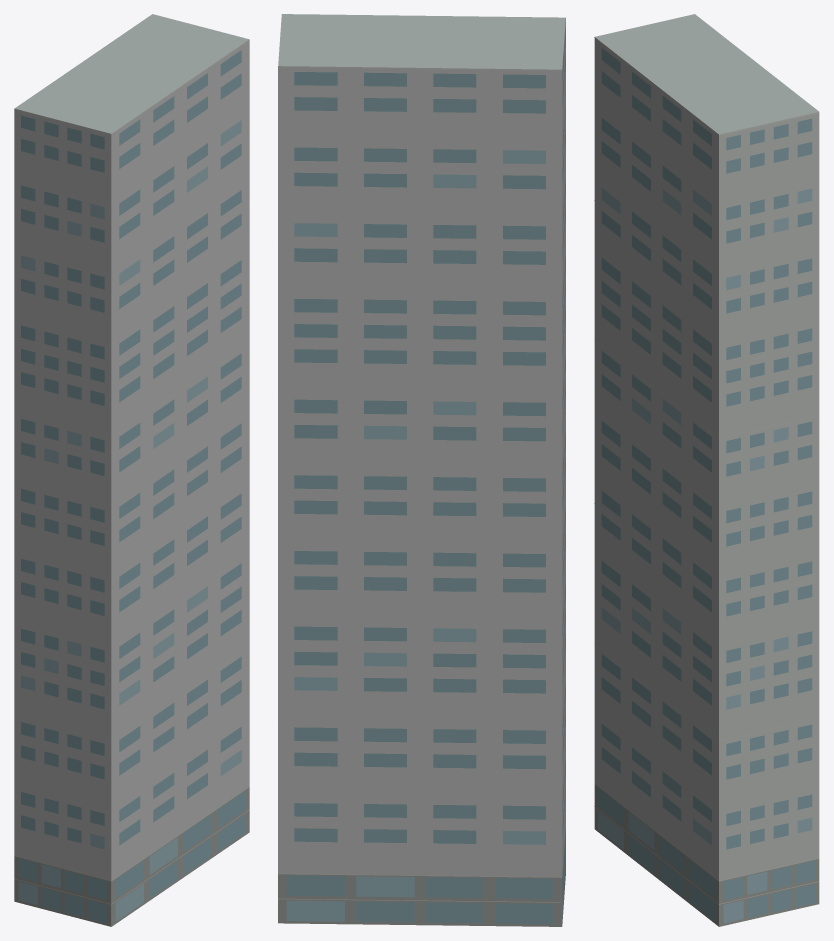
File: residential-af1c1037-02c1-4da7-9061-2c895147899c.glb
3 views of the same model, side by side, from view 1: azimuth 30°, elevation 25°; view 2: azimuth 150°, elevation 25°; view 3: azimuth 270°, elevation 25° (orthographic). The views are drawn at different scales.
Parts seen in each view (by area): view 1: residential-af1c1037-02c1-4da7-9061-2c895147899c.tmp; view 2: residential-af1c1037-02c1-4da7-9061-2c895147899c.tmp; view 3: residential-af1c1037-02c1-4da7-9061-2c895147899c.tmp.
Boxes of the visible parts, x1,y1,x2,y2 form: residential-af1c1037-02c1-4da7-9061-2c895147899c.tmp: [14, 14, 249, 926]; residential-af1c1037-02c1-4da7-9061-2c895147899c.tmp: [278, 14, 565, 926]; residential-af1c1037-02c1-4da7-9061-2c895147899c.tmp: [594, 14, 819, 926].
Size of the model in its own units: 34.95 by 107 by 27.54.
